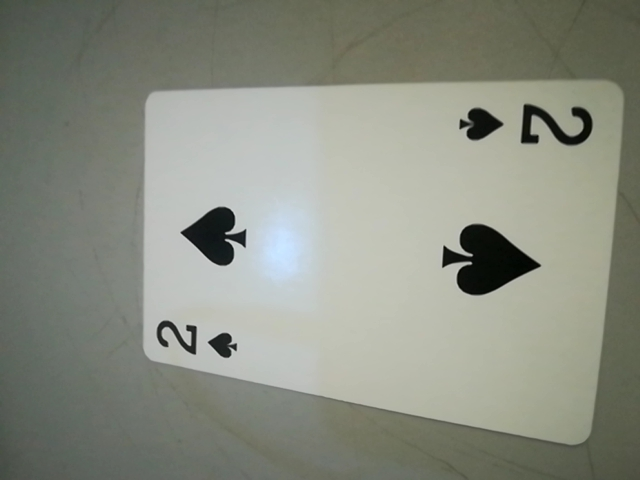ht 2: (450, 90, 614, 158)
